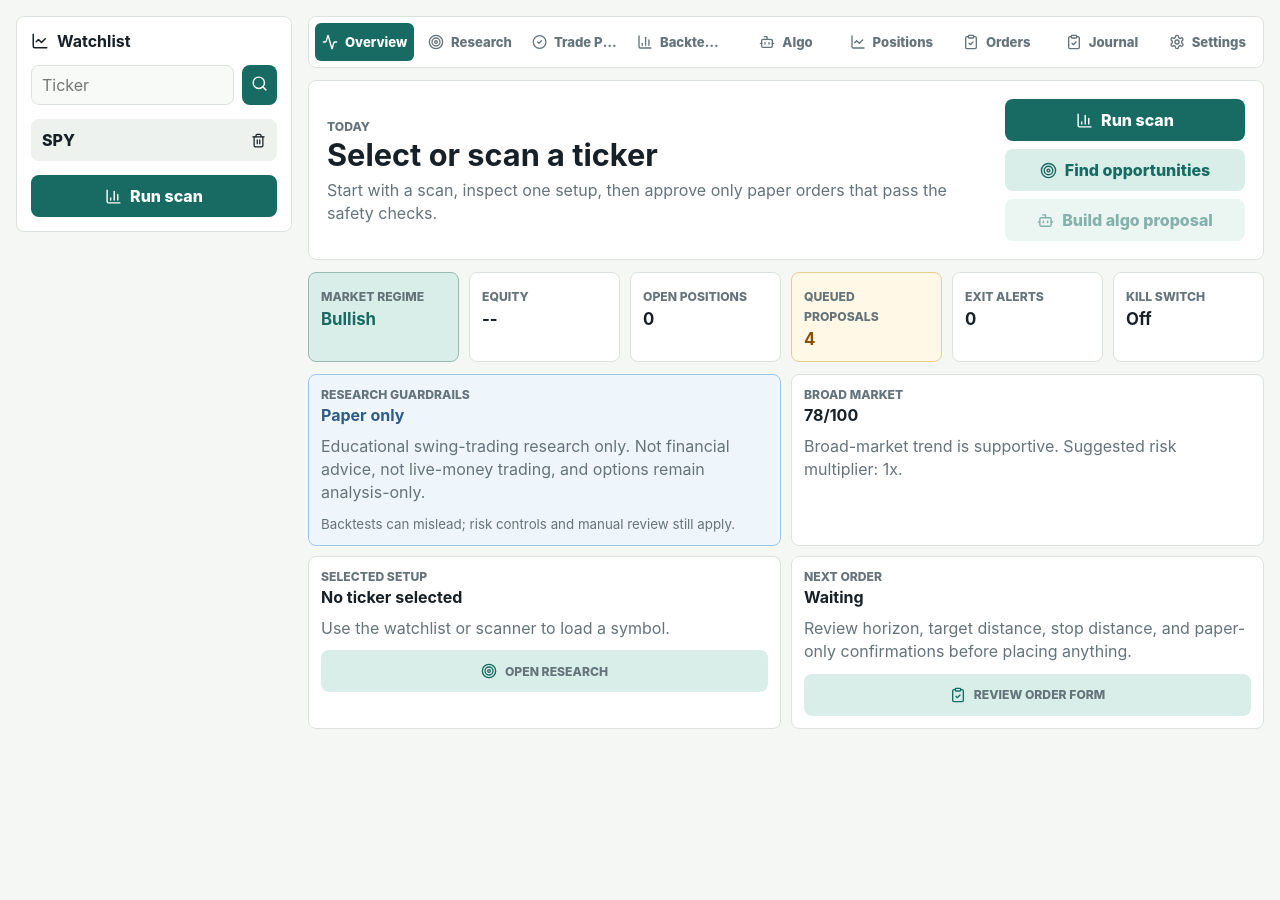
Test case: dashboard › runs a backtest and renders summary results
Click the button "Backtests".
click(681, 42)  # box [631,23,730,61]
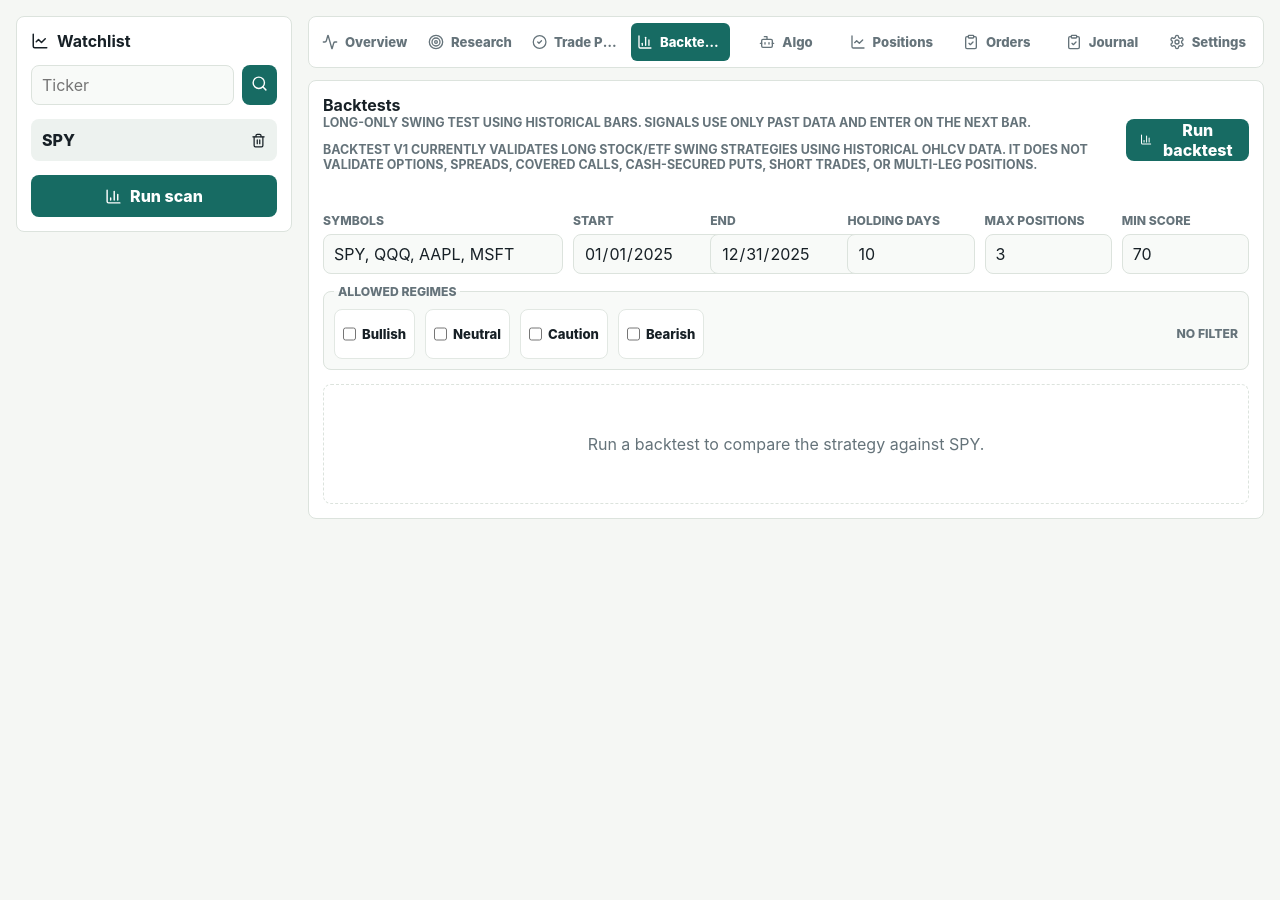
Now the text "Long-only swing test using historical bars. Signals use only past data and enter on the next bar." is shown, box [323,115,1031,130]
Click the checkbox labelled "Bullish".
click(350, 334)  # box [343,314,356,354]
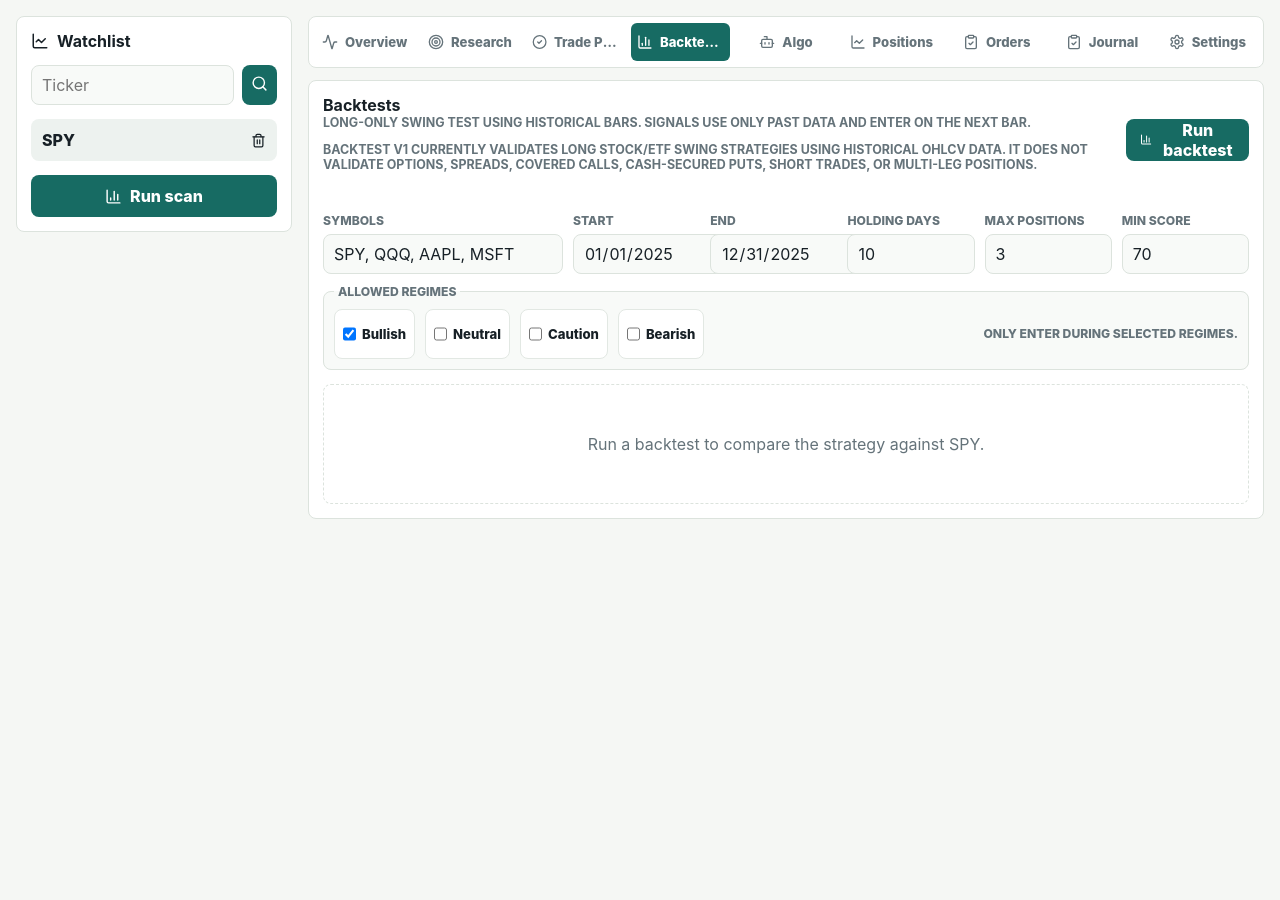
Click the button "Run backtest".
click(1188, 140)  # box [1126,119,1249,161]
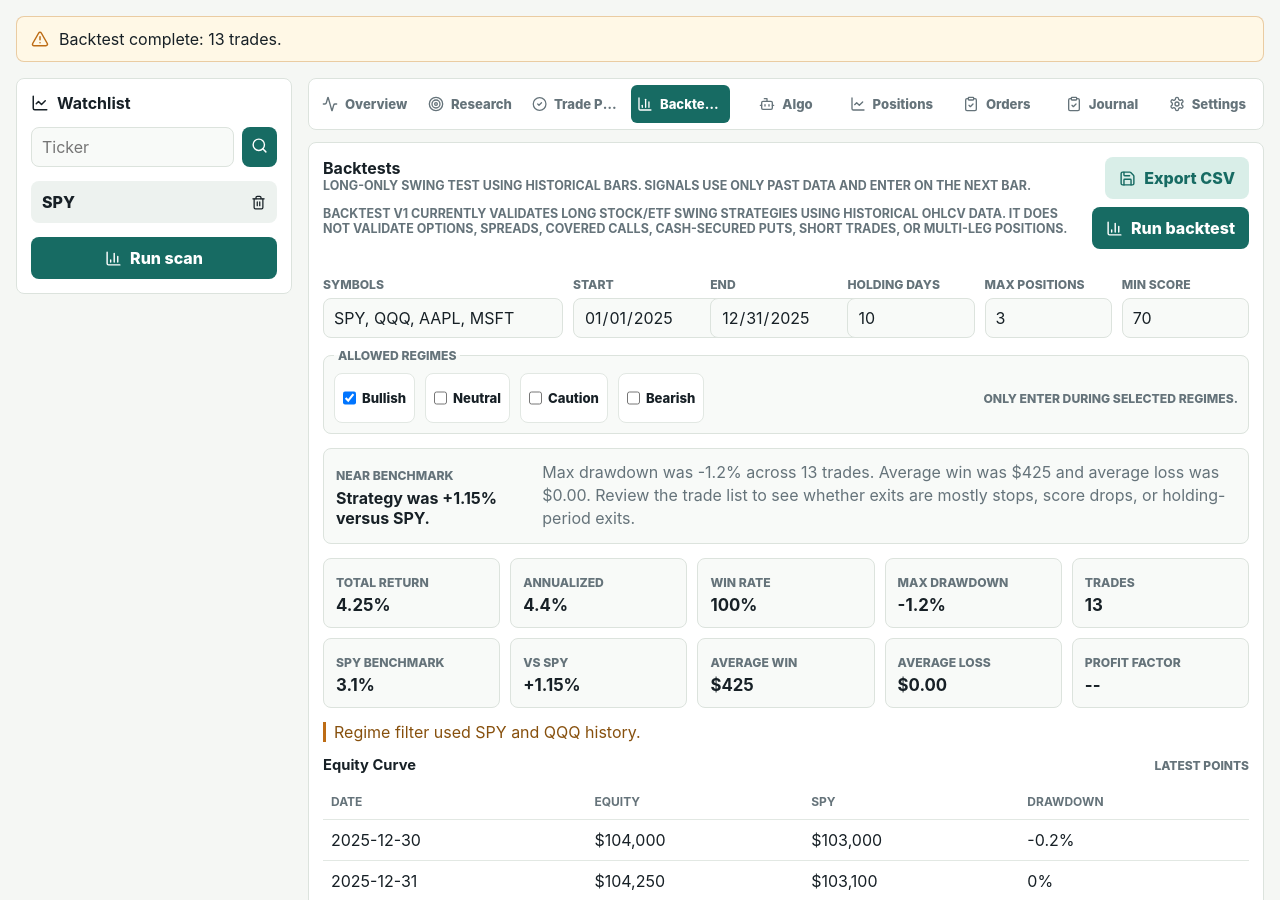
Now the text "Backtest complete: 13 trades." is shown, box [59,29,282,49]
Now the text "Total return" is shown, box [336,575,429,590]
Now the text "Near benchmark" is shown, box [336,468,454,483]
